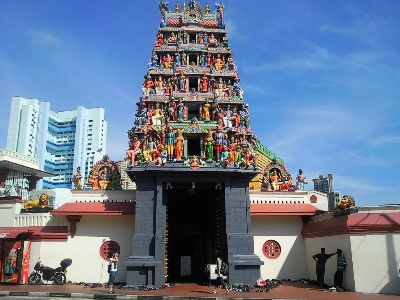gopura: (133, 3, 265, 167)
